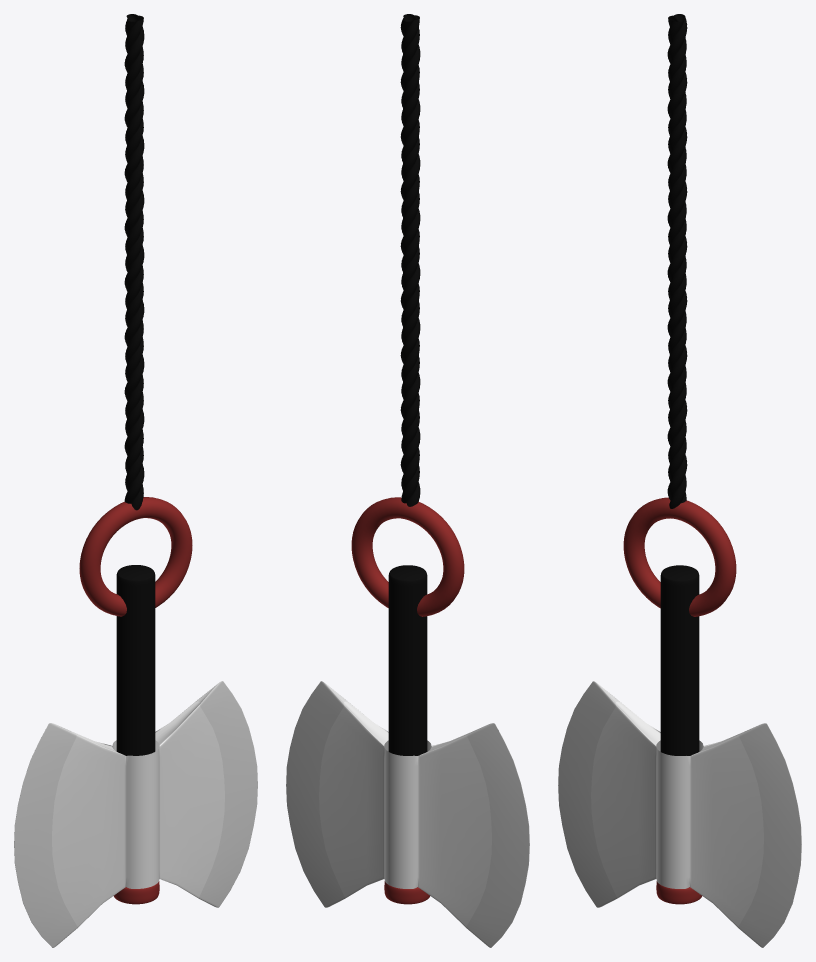
File: Hurdle 7 Floating AXE.fbx
3 views of the same model, side by side, from view 1: azimuth 30°, elevation 25°; view 2: azimuth 150°, elevation 25°; view 3: azimuth 330°, elevation 25° (orthographic).
Parts seen in each view (by area): view 1: Cylinder; view 2: Cylinder; view 3: Cylinder.
Boxes of the visible parts, x1,y1,x2,y2 form: Cylinder: (14, 14, 257, 947); Cylinder: (286, 14, 529, 947); Cylinder: (558, 14, 801, 947).
Size of the model in its own units: 156 by 555 by 26.25.
3 materials, 2 textured.
